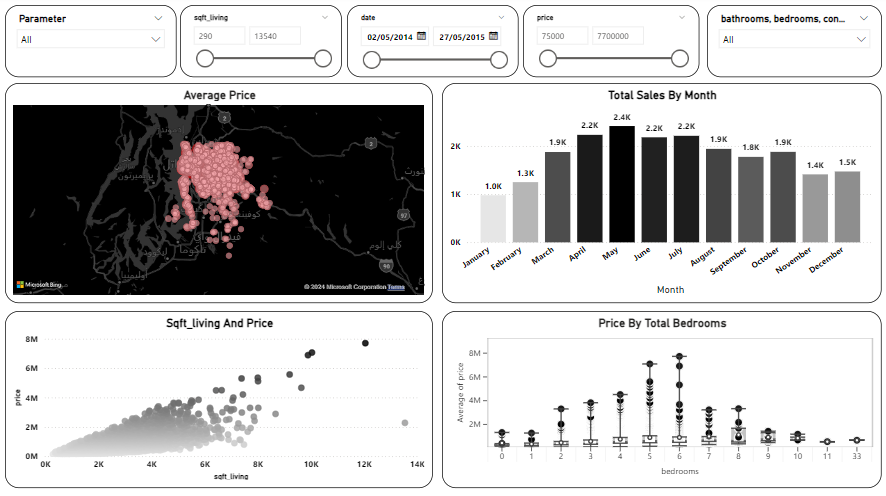

This screenshot's page, from the dashboard's own definition file:
{"tool":"powerbi","page":{"name":"Page 1","canvas":[1280,720],"ordinal":0},"visuals":[{"type":"slicer","fields":{"Values":["Parameter.Parameter"]},"box":[10.1,13.4,246.9,104.1],"z":0},{"type":"slicer","fields":{"Values":["House Sales in King County, USA.bathrooms","House Sales in King County, USA.bedrooms","House Sales in King County, USA.condition","House Sales in King County, USA.floors","House Sales in King County, USA.grade","House Sales in King County, USA.view","House Sales in King County, USA.waterfront","House Sales in King County, USA.yr_built","House Sales in King County, USA.yr_renovated"]},"box":[1021.3,13.4,252,104.1],"z":1},{"type":"slicer","fields":{"Values":["House Sales in King County, USA.date"]},"box":[502.3,13.4,246.9,104.1],"z":2},{"type":"slicer","fields":{"Values":["House Sales in King County, USA.sqft_living"]},"box":[262,13.4,233.5,104.1],"z":3},{"type":"slicer","fields":{"Values":["House Sales in King County, USA.price"]},"box":[755.9,13.4,253.6,104.1],"z":4},{"type":"clusteredColumnChart","title":"Total Sales By Month","fields":{"Y":["CountNonNull(House Sales in King County, USA.id)"],"Category":["House Sales in King County, USA.date.Variation.Date Hierarchy.Month"]},"box":[640,126,633.3,317.5],"z":5},{"type":"map","title":"Average Price ","fields":{"Y":["House Sales in King County, USA.lat"],"X":["House Sales in King County, USA.long"],"Size":["Avg(House Sales in King County, USA.price)"]},"box":[10.1,126,616.5,317.5],"z":6},{"type":"scatterChart","title":"Sqft_living And Price","fields":{"Y":["House Sales in King County, USA.price"],"X":["House Sales in King County, USA.sqft_living"]},"box":[10.1,453.5,616.5,255.3],"z":7},{"type":"BoxandWhiskerByMAQ1823AD39DT234AB532063E128AX","title":" Price By Total Bedrooms","fields":{"category":["House Sales in King County, USA.price"],"categoryGroup":["House Sales in King County, USA.bedrooms"],"measure":["Avg(House Sales in King County, USA.price)"]},"box":[640,454,633,255],"z":8}]}

Visuals, with their boxes in screenshot pixels (x1, y1, x2, y2), scaled from the page's 1280x720 canvas onto the 886x496 screenshot:
slicer - Parameter.Parameter: box=[7, 9, 178, 81]
slicer - House Sales in King County, USA.bathrooms x House Sales in King County, USA.bedrooms: box=[707, 9, 881, 81]
slicer - House Sales in King County, USA.date: box=[348, 9, 519, 81]
slicer - House Sales in King County, USA.sqft_living: box=[181, 9, 343, 81]
slicer - House Sales in King County, USA.price: box=[523, 9, 699, 81]
"Total Sales By Month" clusteredColumnChart: box=[443, 87, 881, 306]
"Average Price " map: box=[7, 87, 434, 306]
"Sqft_living And Price" scatterChart: box=[7, 312, 434, 488]
" Price By Total Bedrooms" BoxandWhiskerByMAQ1823AD39DT234AB532063E128AX: box=[443, 313, 881, 488]
